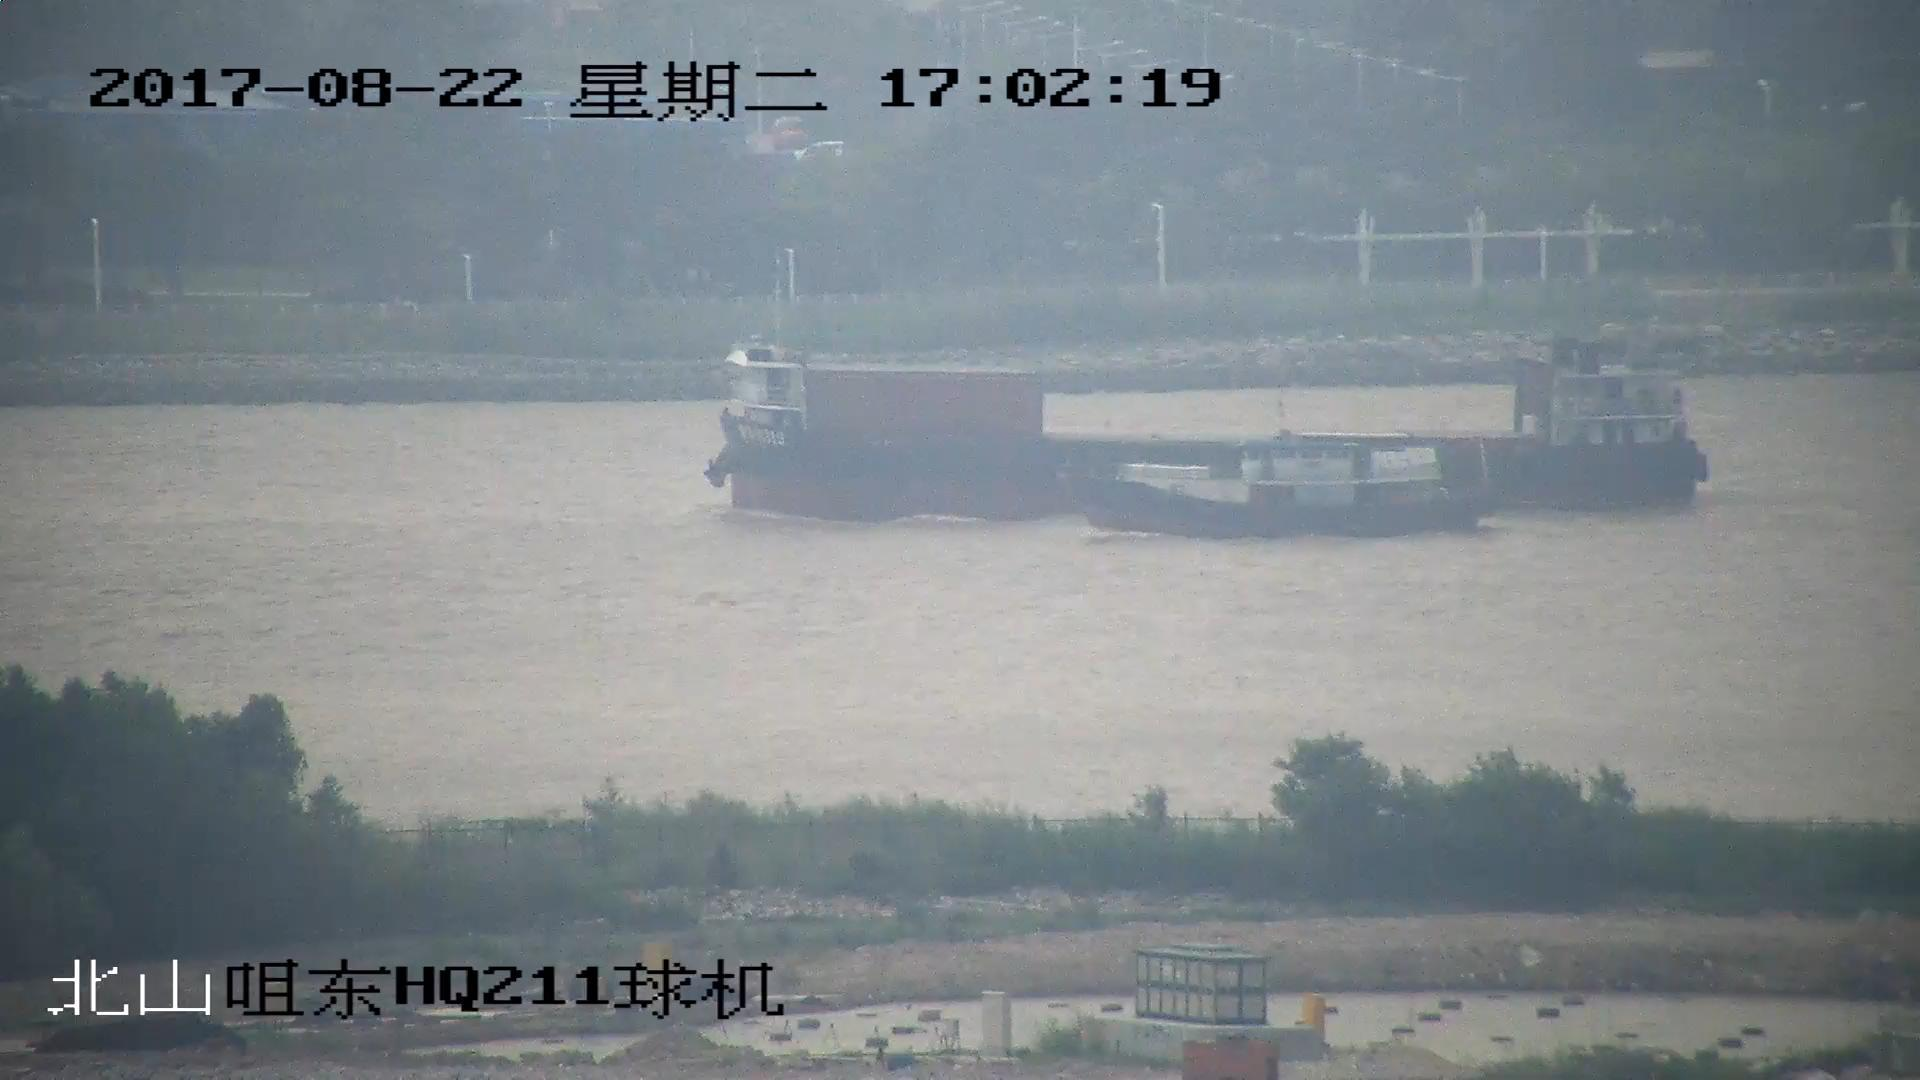Ship: (711, 328, 1716, 520), (1081, 433, 1485, 545)
